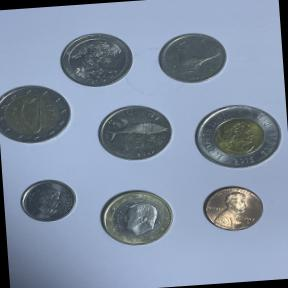1 Euro-B: (92, 184, 182, 253)
2 Euro-B: (0, 81, 73, 150)
Canada-10cent-B: (15, 174, 81, 228)
Canada-2Dollar-B: (186, 95, 288, 178)
Croatia-2Kune-B: (92, 97, 178, 168)
US-1cent-B: (196, 179, 270, 237)
US-25cent-B: (55, 27, 140, 91)
